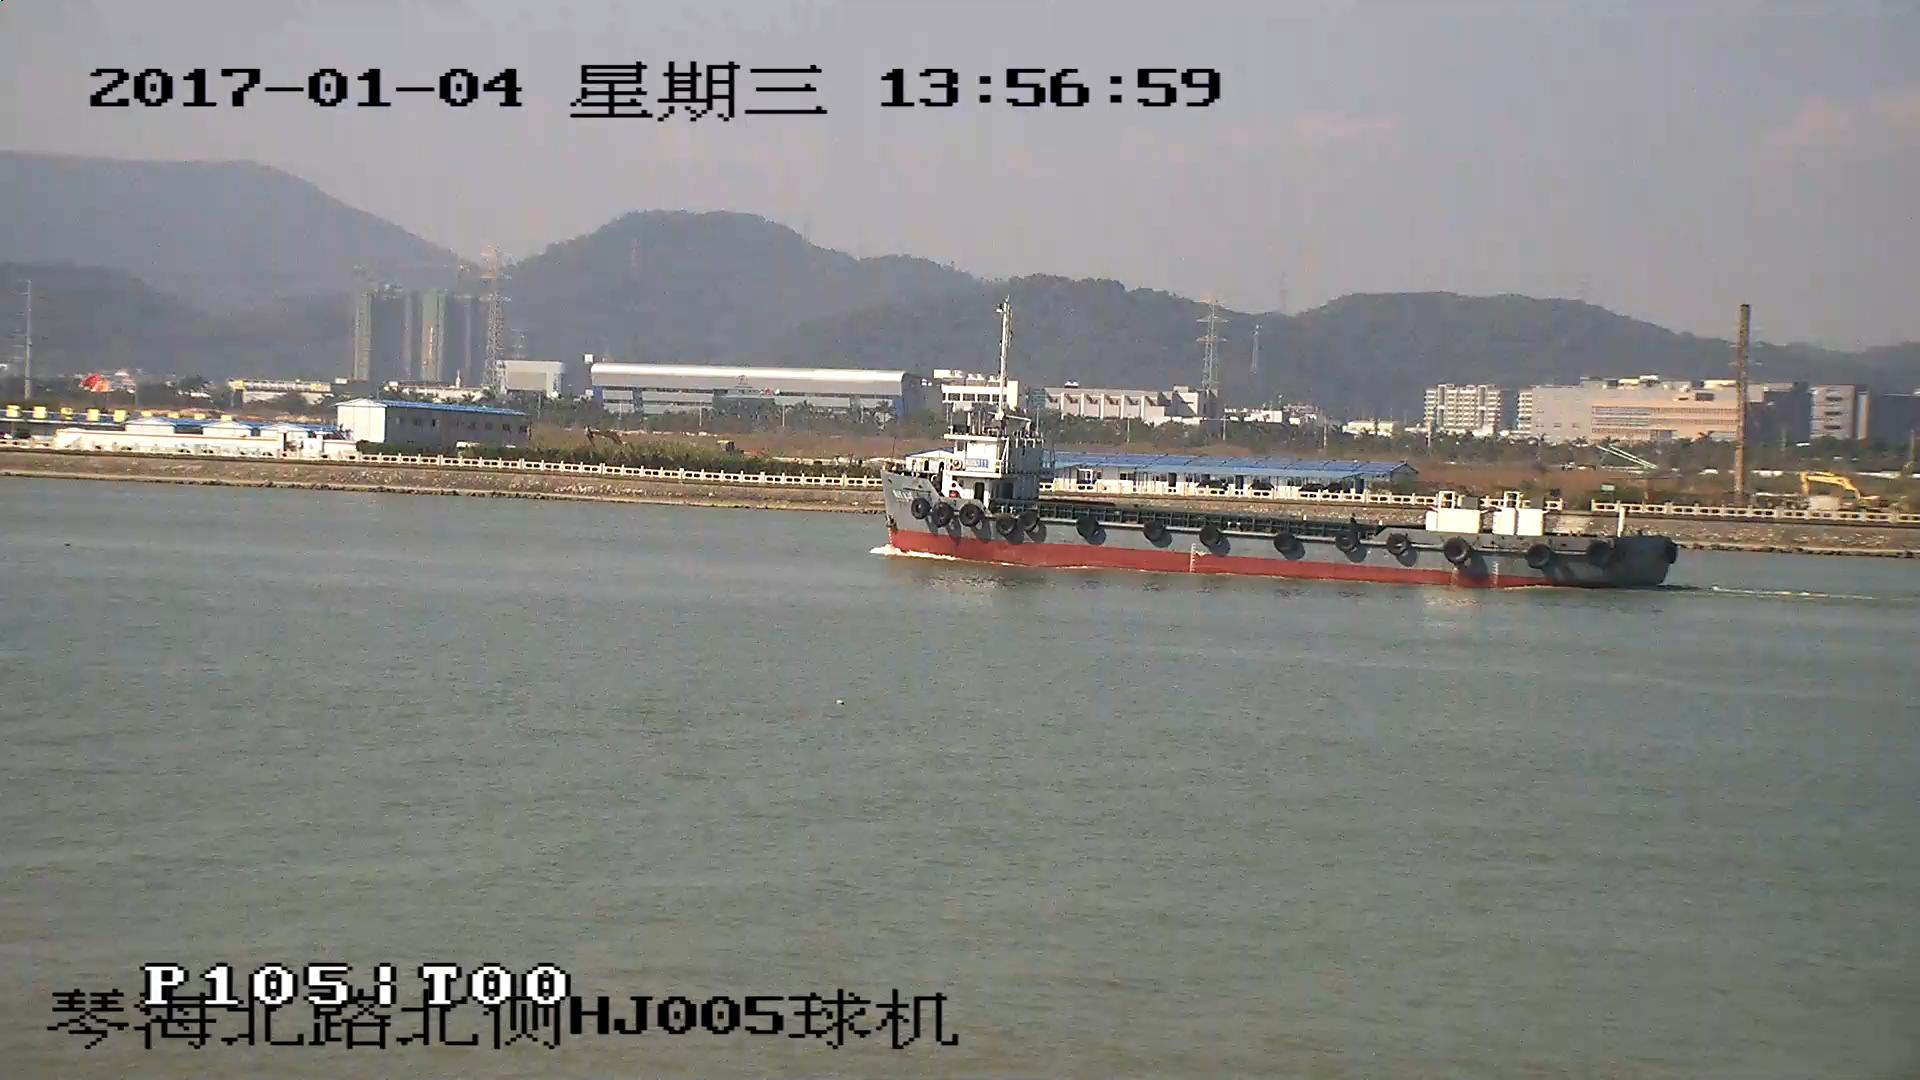general cargo ship: (885, 415, 1681, 594)
